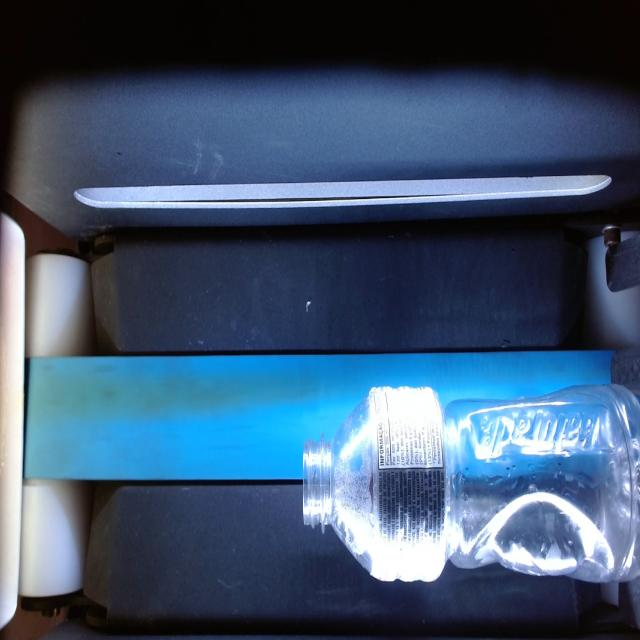bottom: (450, 386, 640, 588)
label: (368, 377, 449, 585)
neck: (304, 398, 373, 569)
